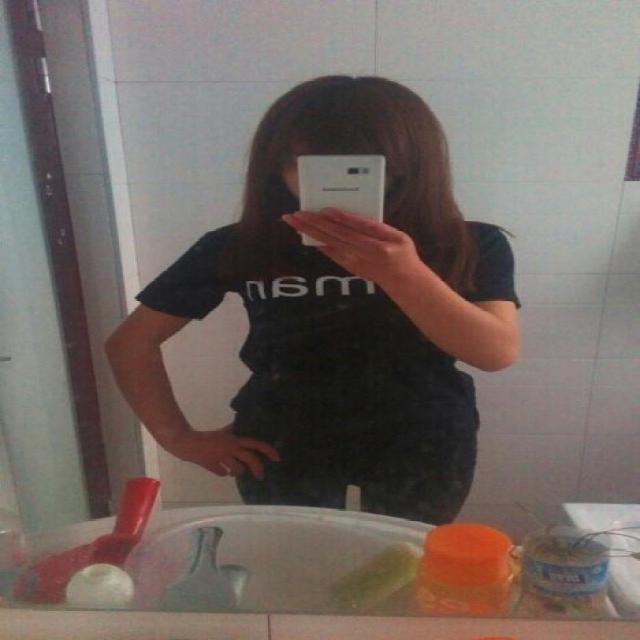short sleeve top: (135, 218, 526, 448)
trousers: (239, 399, 472, 524)
